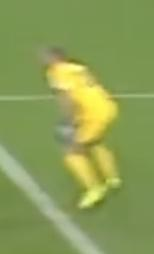goalkeeper: (38, 38, 141, 220)
